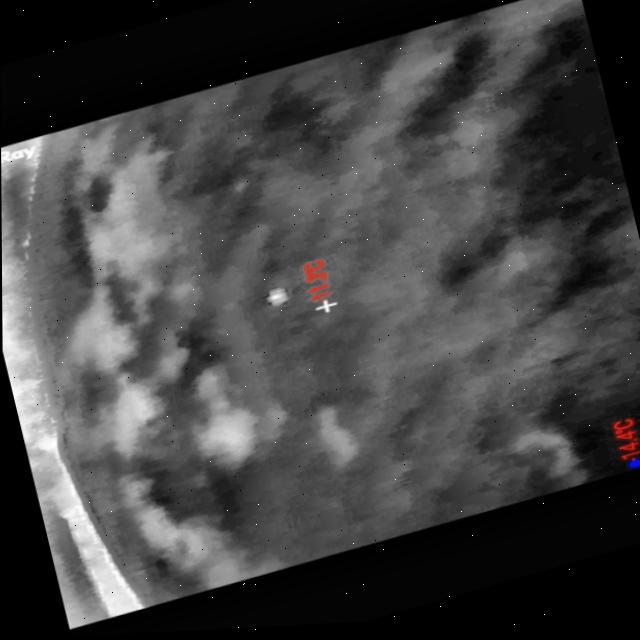drone: (263, 288, 292, 309)
